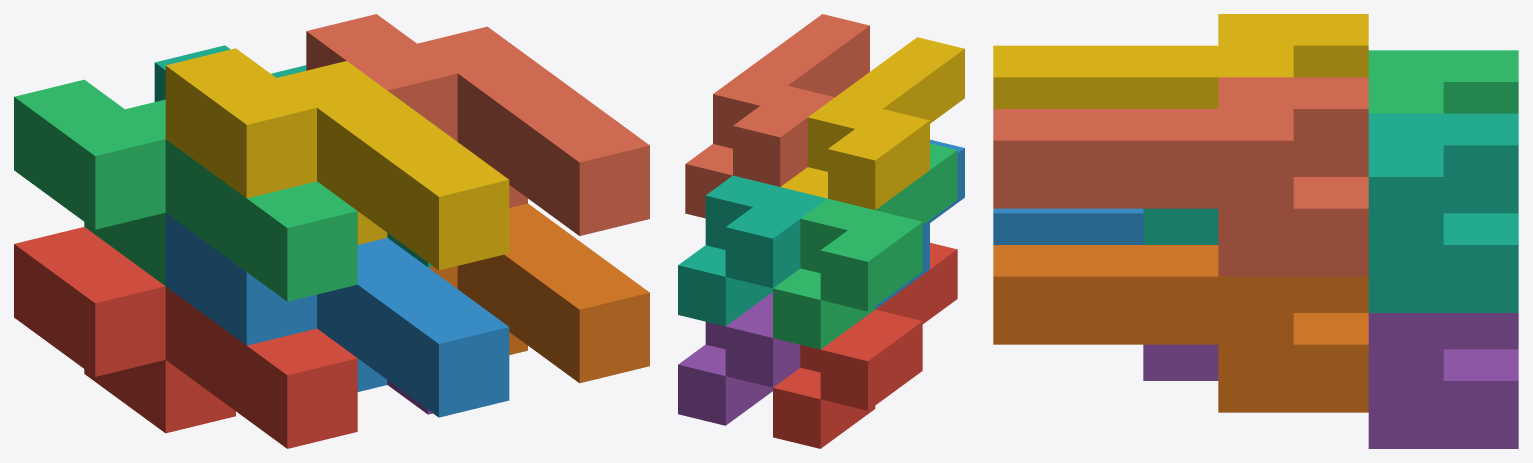
The model's file is tiling.obj.
3 views of the same model, side by side, from view 1: azimuth 30°, elevation 25°; view 2: azimuth 150°, elevation 25°; view 3: azimuth 270°, elevation 25° (orthographic). The views are drawn at different scales.
Visible parts, largest first — view 1: copy_1_domain_4, copy_1_domain_1, copy_1_domain_3, copy_1_domain_8, copy_1_domain_2, copy_1_domain_6, copy_1_domain_7; view 2: copy_1_domain_3, copy_1_domain_4, copy_1_domain_8, copy_1_domain_1, copy_1_domain_7, copy_1_domain_5, copy_1_domain_2; view 3: copy_1_domain_8, copy_1_domain_6, copy_1_domain_7, copy_1_domain_4, copy_1_domain_5, copy_1_domain_3, copy_1_domain_2.
Boxes of the visible parts, x1=… form: copy_1_domain_4: x1=165, y1=48, x2=509, y2=270; copy_1_domain_1: x1=14, y1=227, x2=357, y2=448; copy_1_domain_3: x1=14, y1=79, x2=357, y2=301; copy_1_domain_8: x1=306, y1=14, x2=649, y2=235; copy_1_domain_2: x1=165, y1=213, x2=509, y2=417; copy_1_domain_6: x1=428, y1=203, x2=649, y2=383; copy_1_domain_7: x1=154, y1=45, x2=432, y2=267; copy_1_domain_3: x1=773, y1=143, x2=957, y2=349; copy_1_domain_4: x1=781, y1=37, x2=964, y2=209; copy_1_domain_8: x1=685, y1=14, x2=869, y2=218; copy_1_domain_1: x1=773, y1=242, x2=957, y2=448; copy_1_domain_7: x1=678, y1=175, x2=827, y2=326; copy_1_domain_5: x1=678, y1=292, x2=800, y2=425; copy_1_domain_2: x1=875, y1=139, x2=964, y2=309; copy_1_domain_8: x1=993, y1=77, x2=1368, y2=276; copy_1_domain_6: x1=993, y1=245, x2=1368, y2=412; copy_1_domain_7: x1=1143, y1=113, x2=1518, y2=312; copy_1_domain_4: x1=993, y1=14, x2=1368, y2=108; copy_1_domain_5: x1=1143, y1=313, x2=1518, y2=448; copy_1_domain_3: x1=1368, y1=50, x2=1518, y2=113; copy_1_domain_2: x1=993, y1=208, x2=1143, y2=244.
Bounding box in the file's own units: 5 × 5 × 7.
